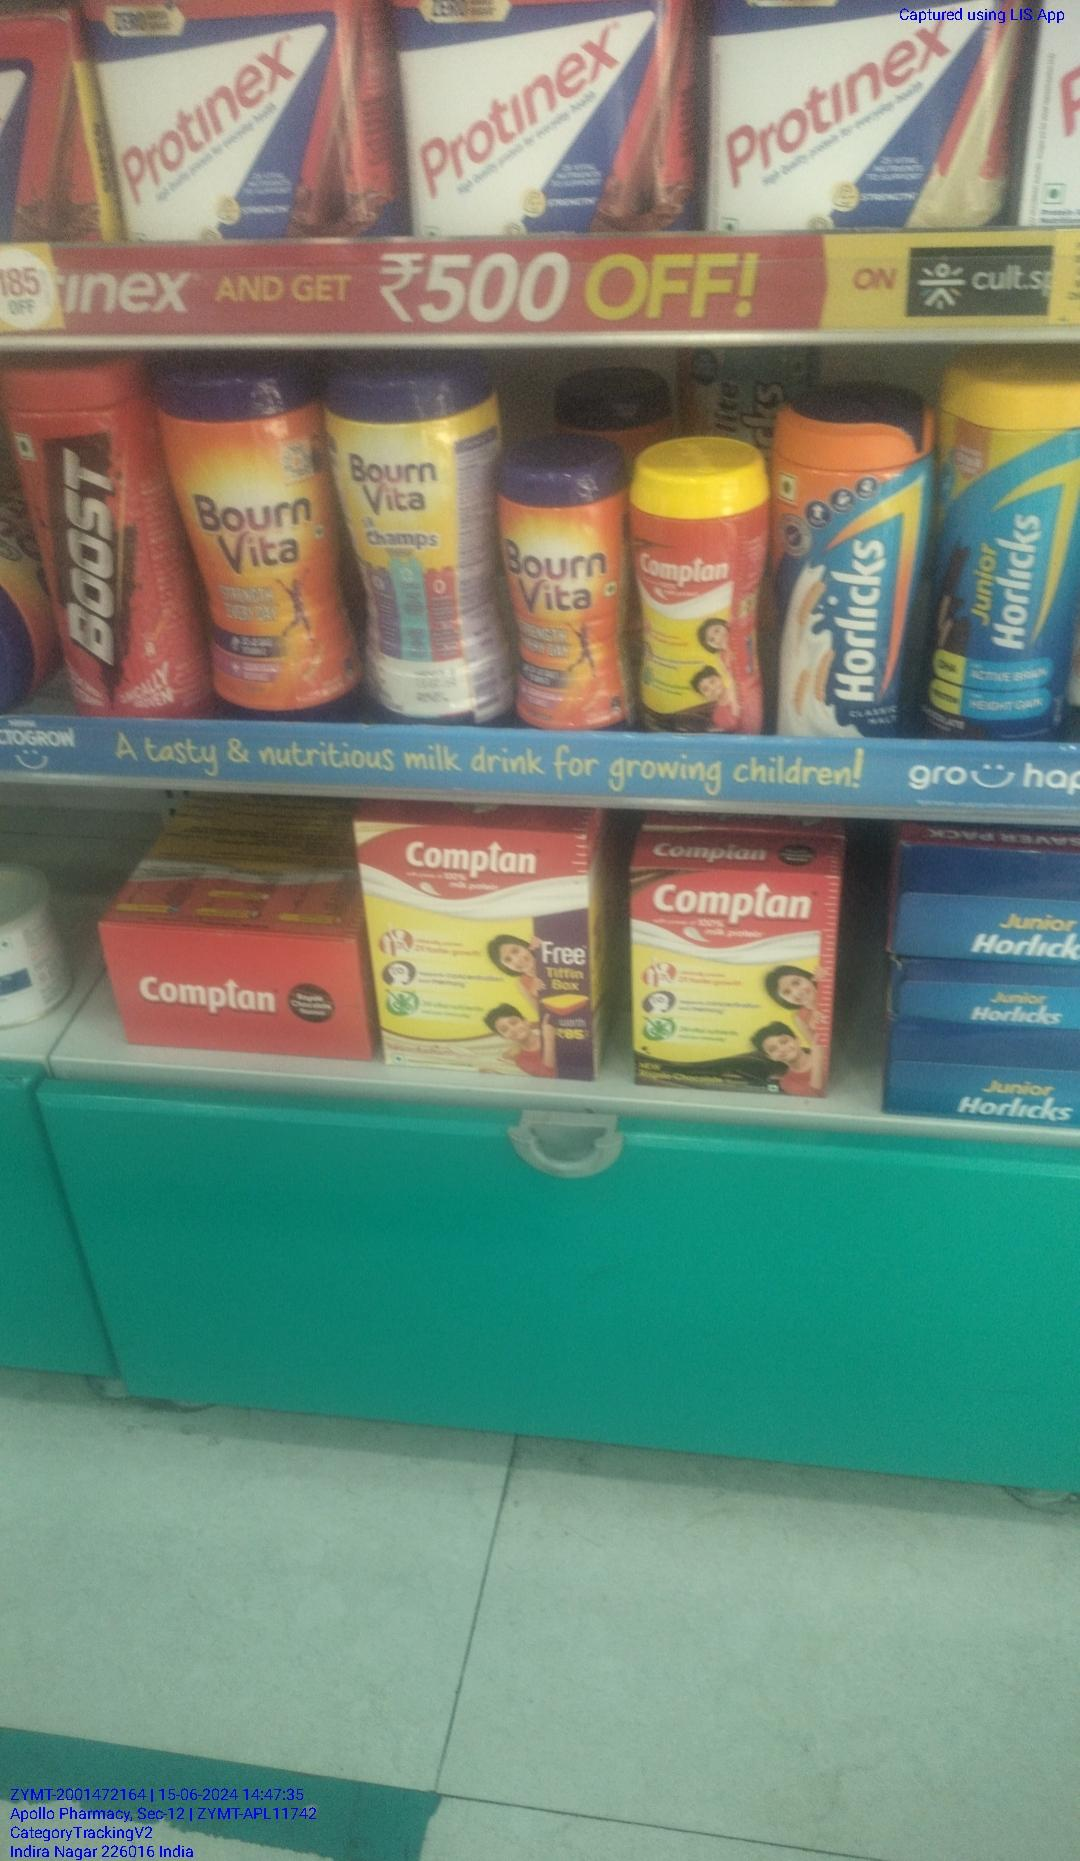BOURN_VITA_200_G_JAR: (510, 463, 624, 722)
BOURN_VITA_500_G_JAR: (174, 384, 328, 713)
BOURN_VITA_CHAMPS_500_G_JAR: (341, 382, 504, 718)
COMPLAN_CHOCOLATE_200_GMS_JAR: (634, 442, 766, 736)
COMPLAN_CHOCOLATE_200_GMS_PACK: (627, 868, 832, 1095)
COMPLAN_KESAR_BADAM_500_GMS_PACK: (372, 823, 595, 1078)
HORLICK_CLASSIC_MALT_500_G_JAR: (774, 398, 905, 736)
